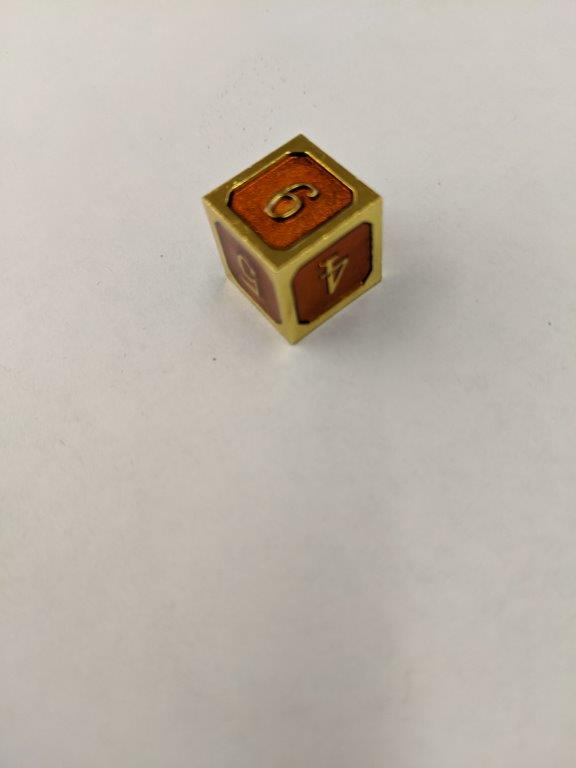d6-6: (200, 131, 385, 345)
